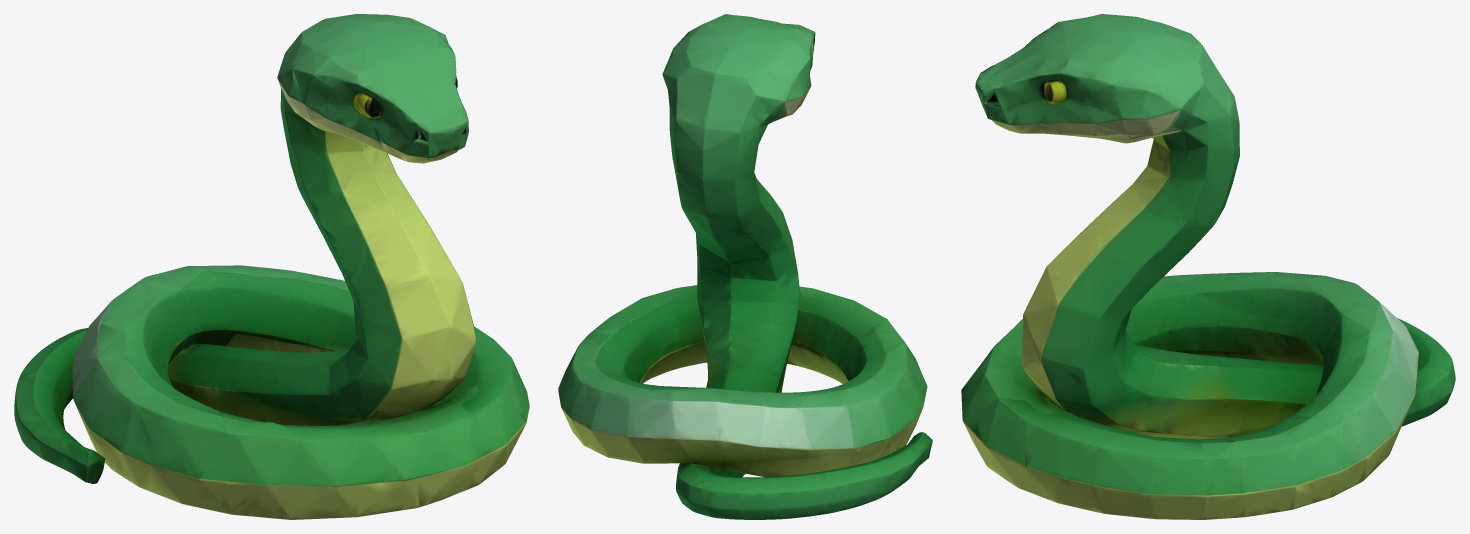
File: snake.glb
The picture shows the model from 3 angles, left to right: view 1: azimuth 30°, elevation 25°; view 2: azimuth 150°, elevation 25°; view 3: azimuth 270°, elevation 25°; orthographic projection. The views are drawn at different scales.
Visible parts, largest first — view 1: node_0; view 2: node_0; view 3: node_0.
Boxes of the visible parts, bbox=[...] form: node_0: bbox=[14, 14, 529, 519]; node_0: bbox=[558, 14, 932, 519]; node_0: bbox=[961, 14, 1455, 519].
Size of the model in its own units: 0.8637 by 0.8677 by 0.8758.
Materials: 1 (1 with a texture image).
